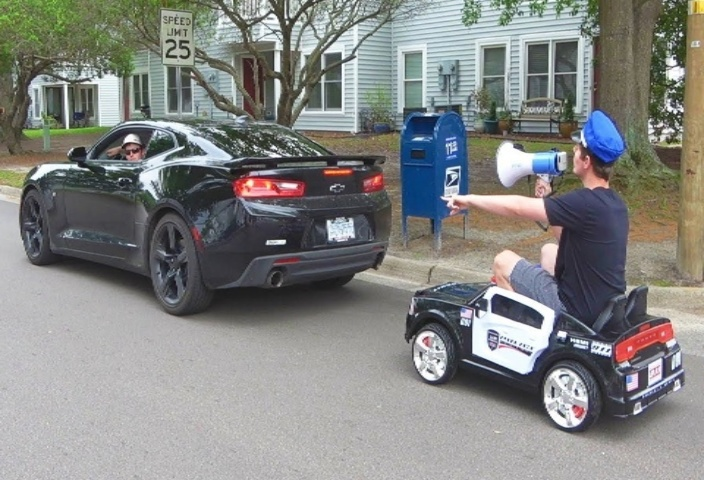car: (10, 109, 404, 307), (401, 271, 692, 442)
